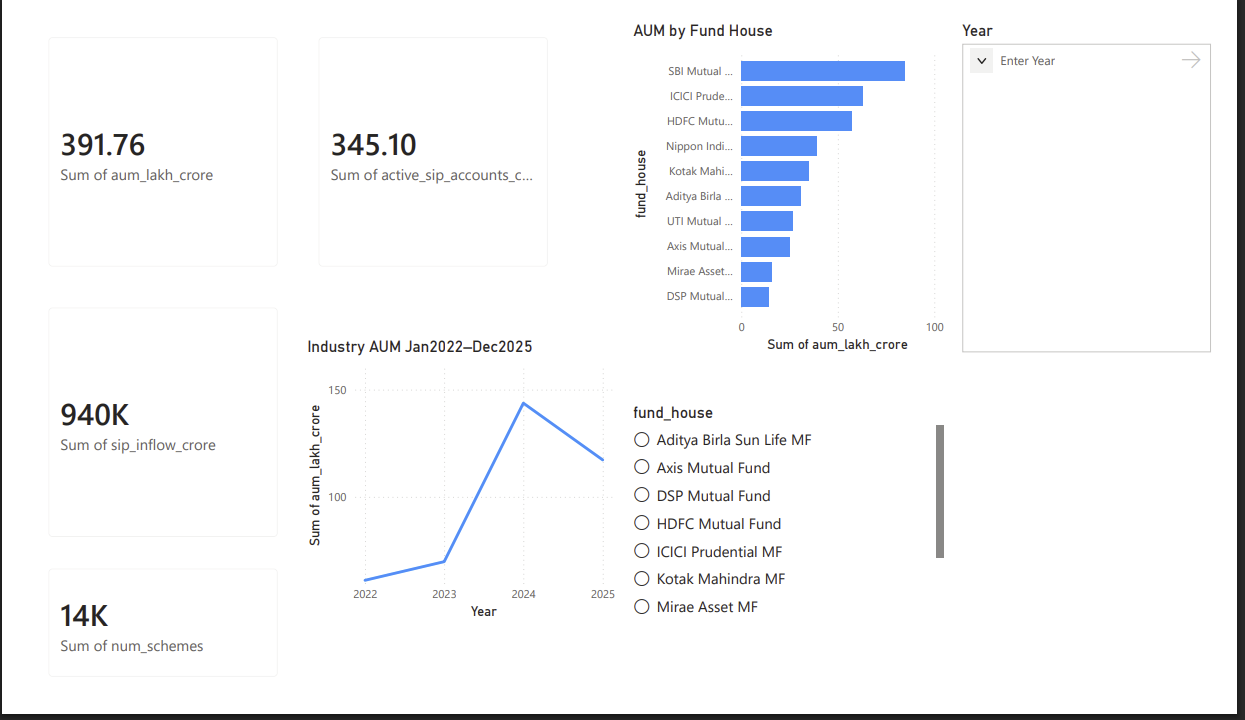

The dashboard page shown, as its layout file describes it:
{"tool":"powerbi","page":{"name":"Industry Overview","canvas":[1280,720],"ordinal":0},"visuals":[{"type":"cardVisual","fields":{"Data":["Sum(clean_aum.aum_lakh_crore)"]},"box":[10,0,280,280],"z":0},{"type":"cardVisual","fields":{"Data":["Sum(clean_sip_inflows.sip_inflow_crore)"]},"box":[10,290,280,280],"z":1000},{"type":"cardVisual","fields":{"Data":["Sum(clean_aum.num_schemes)"]},"box":[10,570,280,150],"z":2000},{"type":"cardVisual","fields":{"Data":["Sum(clean_sip_inflows.active_sip_accounts_crore)"]},"box":[300,0,280,280],"z":3000},{"type":"lineChart","title":"Industry AUM Jan2022–Dec2025","fields":{"Category":["clean_aum.date.Variation.Date Hierarchy.Year","clean_aum.date.Variation.Date Hierarchy.Quarter","clean_aum.date.Variation.Date Hierarchy.Month","clean_aum.date.Variation.Date Hierarchy.Day"],"Y":["Sum(clean_aum.aum_lakh_crore)"]},"box":[300,338.6,340,307.1],"z":4000},{"type":"clusteredBarChart","title":"AUM by Fund House","fields":{"Category":["clean_aum.fund_house"],"Y":["Sum(clean_aum.aum_lakh_crore)"]},"box":[650,0,342.9,360],"z":5000},{"type":"textSlicer","fields":{"Values":["clean_aum.date.Variation.Date Hierarchy.Year"]},"box":[1002.9,0,277.1,360],"z":6000},{"type":"listSlicer","fields":{"Values":["clean_aum.fund_house"]},"box":[650,408.6,342.9,237.1],"z":7000}]}

Visuals, with their boxes in screenshot pixels (x1, y1, x2, y2), scaled from the page's 1280x720 canvas onto the 1245x720 screenshot:
cardVisual - Sum(clean_aum.aum_lakh_crore): crop(10, 0, 282, 280)
cardVisual - Sum(clean_sip_inflows.sip_inflow_crore): crop(10, 290, 282, 570)
cardVisual - Sum(clean_aum.num_schemes): crop(10, 570, 282, 719)
cardVisual - Sum(clean_sip_inflows.active_sip_accounts_crore): crop(292, 0, 564, 280)
"Industry AUM Jan2022–Dec2025" lineChart: crop(292, 339, 622, 646)
"AUM by Fund House" clusteredBarChart: crop(632, 0, 966, 360)
textSlicer - clean_aum.date.Variation.Date Hierarchy.Year: crop(975, 0, 1244, 360)
listSlicer - clean_aum.fund_house: crop(632, 409, 966, 646)
